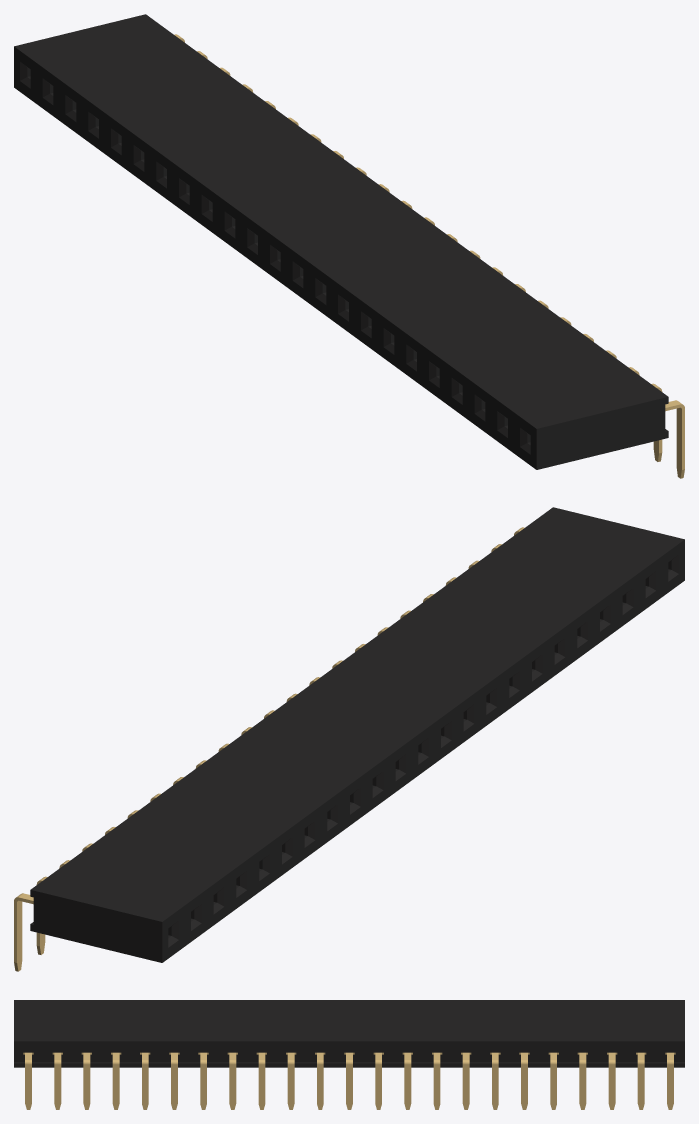
The model's file is kc-pinsocket_1x23_p2.54mm_horizontal.glb.
3 views of the same model, one above another, from view 1: azimuth 30°, elevation 25°; view 2: azimuth 150°, elevation 25°; view 3: azimuth 270°, elevation 25° (orthographic). The views are drawn at different scales.
Parts seen in each view (by area): view 1: 0_0_0_0, 0.75_0.5_0.25_0.9; view 2: 0_0_0_0, 0.75_0.5_0.25_0.9; view 3: 0_0_0_0, 0.75_0.5_0.25_0.9.
Part boxes in pixels (x1,y1,x2,y2): 0_0_0_0: (14, 14, 668, 469); 0.75_0.5_0.25_0.9: (174, 34, 684, 478); 0_0_0_0: (30, 507, 684, 962); 0.75_0.5_0.25_0.9: (14, 527, 524, 971); 0_0_0_0: (14, 1000, 684, 1067); 0.75_0.5_0.25_0.9: (23, 1052, 675, 1109).
Bounding box in the file's own units: 1.01 × 0.584 × 5.84.
